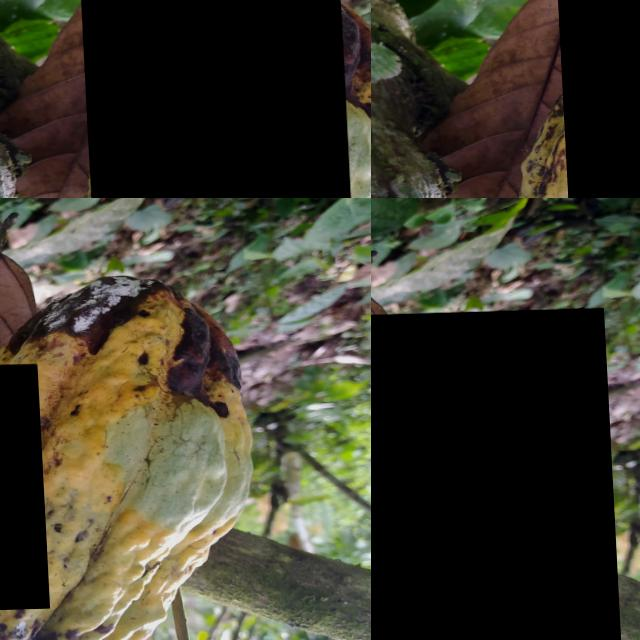Fitoftora: (552, 0, 640, 198)
Monilia: (371, 311, 618, 640)
Sana: (75, 0, 349, 198), (0, 365, 44, 613)
